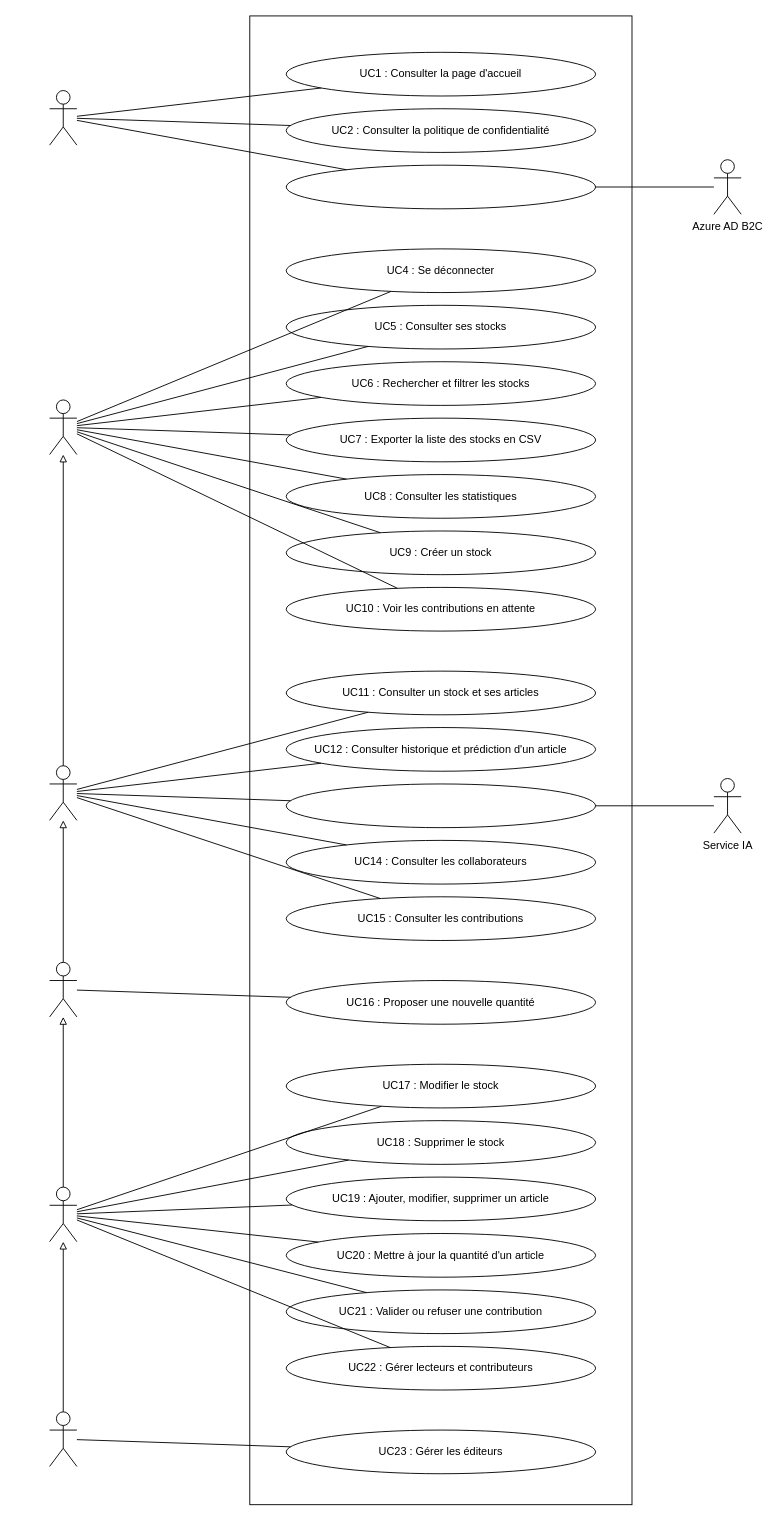
The diagram is 778 pixels wide and 1521 high, and some of its shapes have lost their labels. Here are the shapes that lost their labels. From the top down, the box of each, then its label:
(49, 90, 77, 145): Visiteur
(285, 164, 596, 209): UC3 : Se connecter
(49, 399, 77, 455): Utilisateur connecté
(249, 15, 632, 1505): StockHub
(49, 765, 77, 820): Lecteur
(285, 783, 596, 828): UC13 : Consulter les suggestions IA
(49, 961, 77, 1017): Contributeur
(49, 1186, 77, 1242): Éditeur
(49, 1411, 77, 1466): Propriétaire
